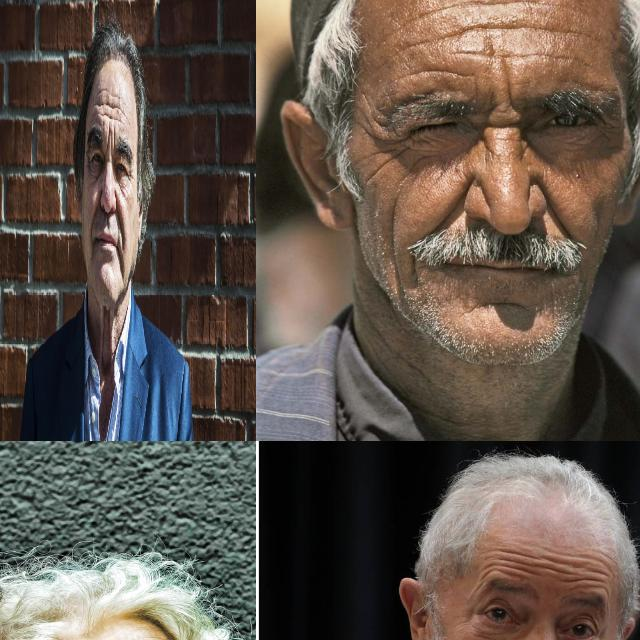chin: (480, 293, 530, 323)
crows_feet: (361, 122, 401, 162), (128, 164, 134, 189), (85, 154, 91, 179)
forehead: (468, 15, 544, 45), (512, 42, 578, 66), (416, 58, 468, 86), (400, 28, 450, 54), (576, 558, 608, 590), (532, 552, 568, 578), (451, 0, 527, 12), (506, 550, 526, 580), (481, 549, 502, 577), (113, 95, 128, 128), (96, 91, 110, 122)
frown_line: (487, 95, 523, 137), (106, 128, 115, 149)
gummy_smile: (538, 184, 572, 240), (432, 178, 470, 228), (115, 194, 123, 232), (92, 191, 100, 226)
masseter: (380, 199, 408, 265)
sad_smile: (90, 230, 94, 260), (118, 242, 122, 268)
